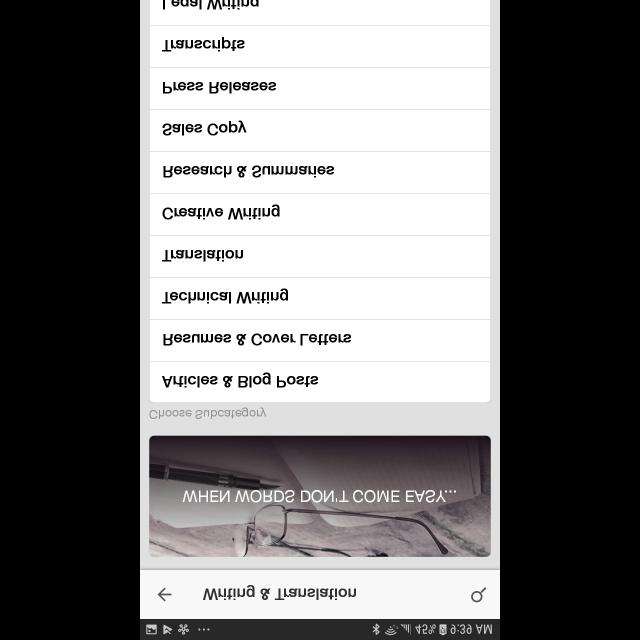icon: (472, 586, 486, 602), (158, 587, 172, 601)
image: (150, 435, 490, 557)
text: (183, 490, 457, 502), (162, 372, 318, 388), (204, 584, 356, 600), (164, 333, 352, 345), (163, 166, 334, 178), (162, 288, 288, 304), (162, 204, 280, 220), (150, 407, 266, 419), (163, 120, 247, 136), (164, 82, 276, 94), (162, 36, 245, 52), (162, 250, 244, 262), (163, 0, 259, 10)
uppertaskbar: (140, 618, 500, 640)
